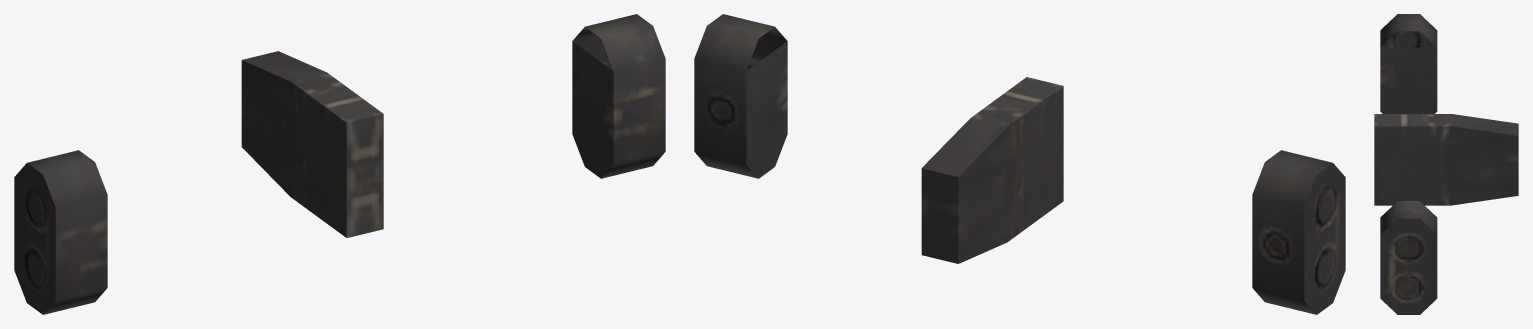
File: segment_02_pair_1.glb
3 views of the same model, side by side, from view 1: azimuth 30°, elevation 25°; view 2: azimuth 150°, elevation 25°; view 3: azimuth 270°, elevation 25° (orthographic). The views are drawn at different scales.
Visible parts, largest first — view 1: set_0_group_0; view 2: set_0_group_0; view 3: set_0_group_0.
Boxes of the visible parts, <box> form: set_0_group_0: <box>14,14,665,314</box>; set_0_group_0: <box>694,14,1345,314</box>; set_0_group_0: <box>1374,14,1518,314</box>.
Bounding box in the file's own units: 0.6305 × 0.1385 × 0.1883.
Materials: 1 (1 with a texture image).
